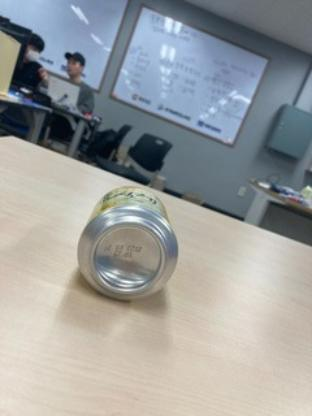Can: (74, 180, 180, 307)
